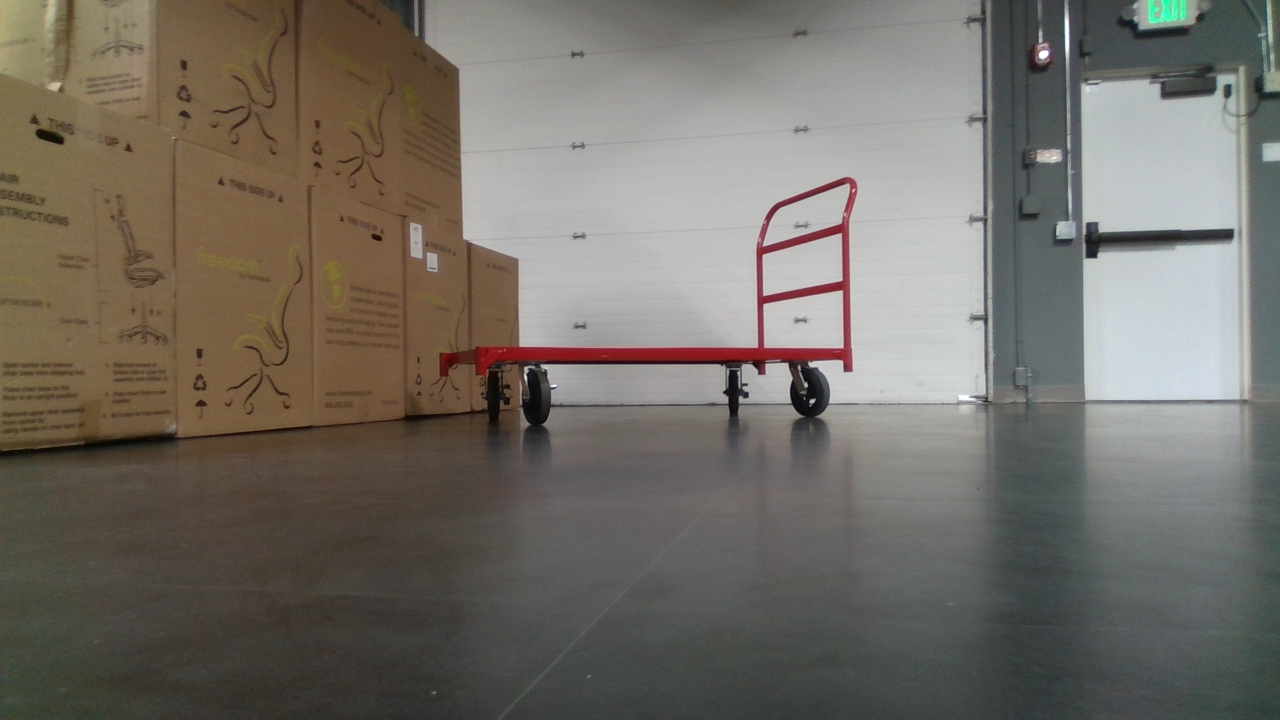Dolly: (436, 175, 868, 428)
Wheel: (787, 366, 831, 420), (517, 367, 554, 426), (480, 375, 508, 421), (722, 372, 744, 413)
